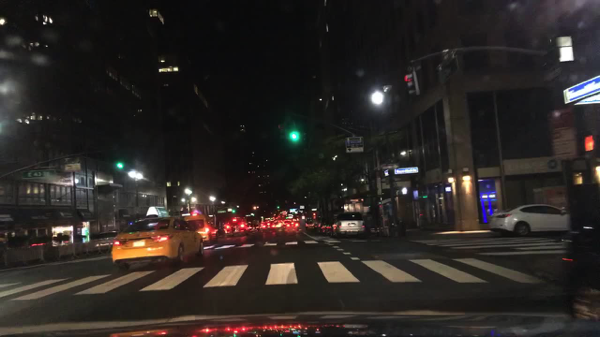car: (111, 206, 205, 269), (561, 224, 599, 321), (488, 199, 570, 238), (183, 215, 219, 245), (332, 212, 367, 238), (3, 234, 52, 252), (223, 218, 248, 234), (93, 230, 118, 242), (320, 215, 333, 237), (282, 220, 300, 233), (315, 216, 325, 231), (249, 222, 259, 233), (308, 218, 317, 230), (272, 220, 282, 228), (261, 221, 270, 229), (304, 218, 309, 229), (231, 207, 235, 214)
traffic light: (403, 70, 423, 96), (581, 134, 596, 159), (290, 125, 299, 143), (277, 122, 286, 140), (371, 197, 382, 207), (360, 198, 371, 206), (116, 162, 122, 169)
traffic sign: (545, 106, 576, 159), (432, 54, 459, 83), (22, 169, 57, 179), (343, 137, 363, 152), (62, 162, 81, 172), (378, 163, 401, 170), (16, 283, 27, 286)
